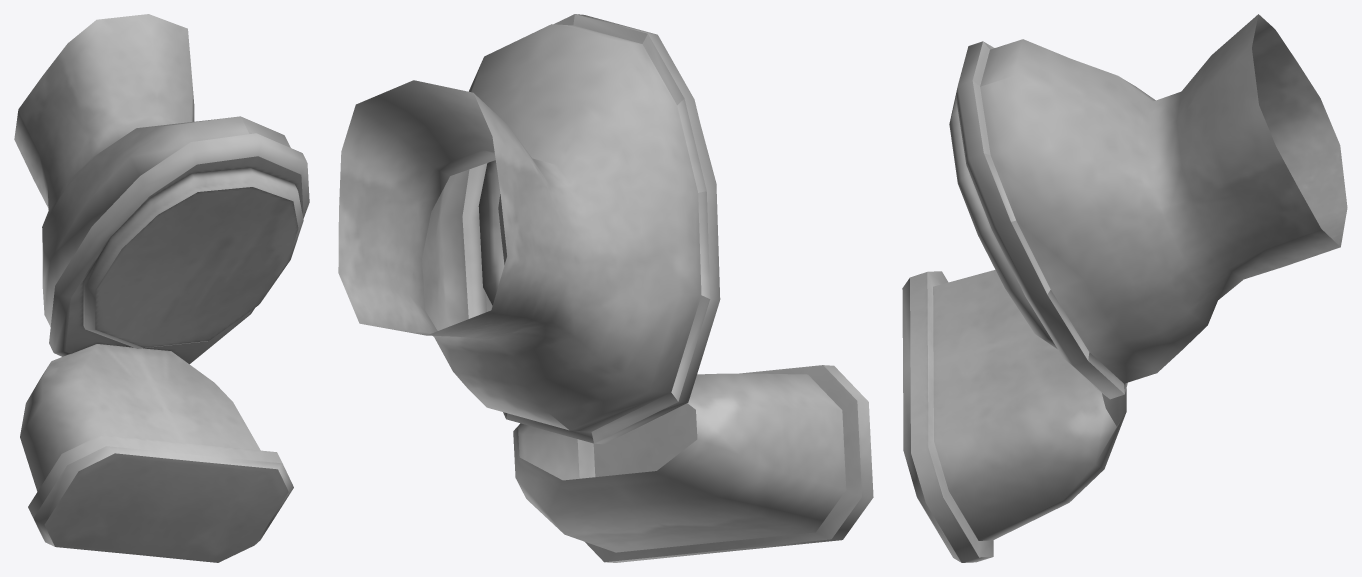
Rendered from PA_Toilet.fbx.
3 views of the same model, side by side, from view 1: azimuth 30°, elevation 25°; view 2: azimuth 150°, elevation 25°; view 3: azimuth 270°, elevation 25° (orthographic). The views are drawn at different scales.
Visible parts, largest first — view 1: Toilet_2; view 2: Toilet_2; view 3: Toilet_2.
Boxes of the visible parts, left/top/right/bottom form: Toilet_2: left=14, top=14, right=309, bottom=562; Toilet_2: left=338, top=14, right=873, bottom=562; Toilet_2: left=902, top=14, right=1347, bottom=562.
Bounding box in the file's own units: 0.4128 × 0.6139 × 0.4548.
